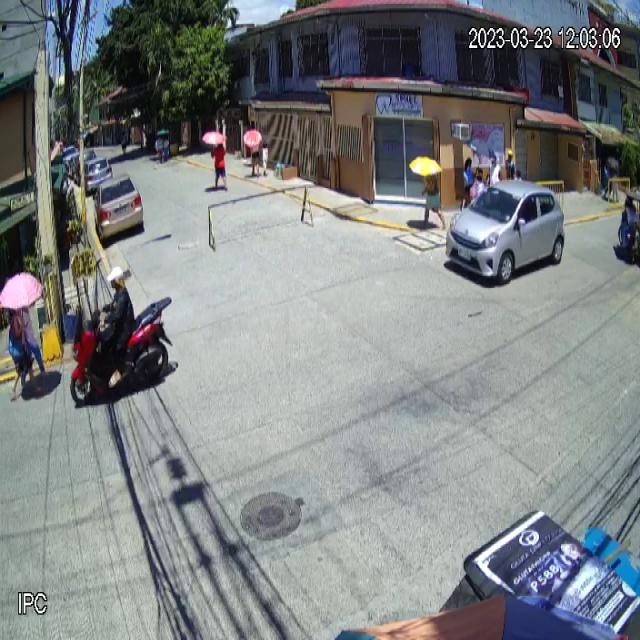Car: (446, 182, 564, 286), (93, 171, 143, 243)
Motorcycle: (70, 295, 172, 402)
